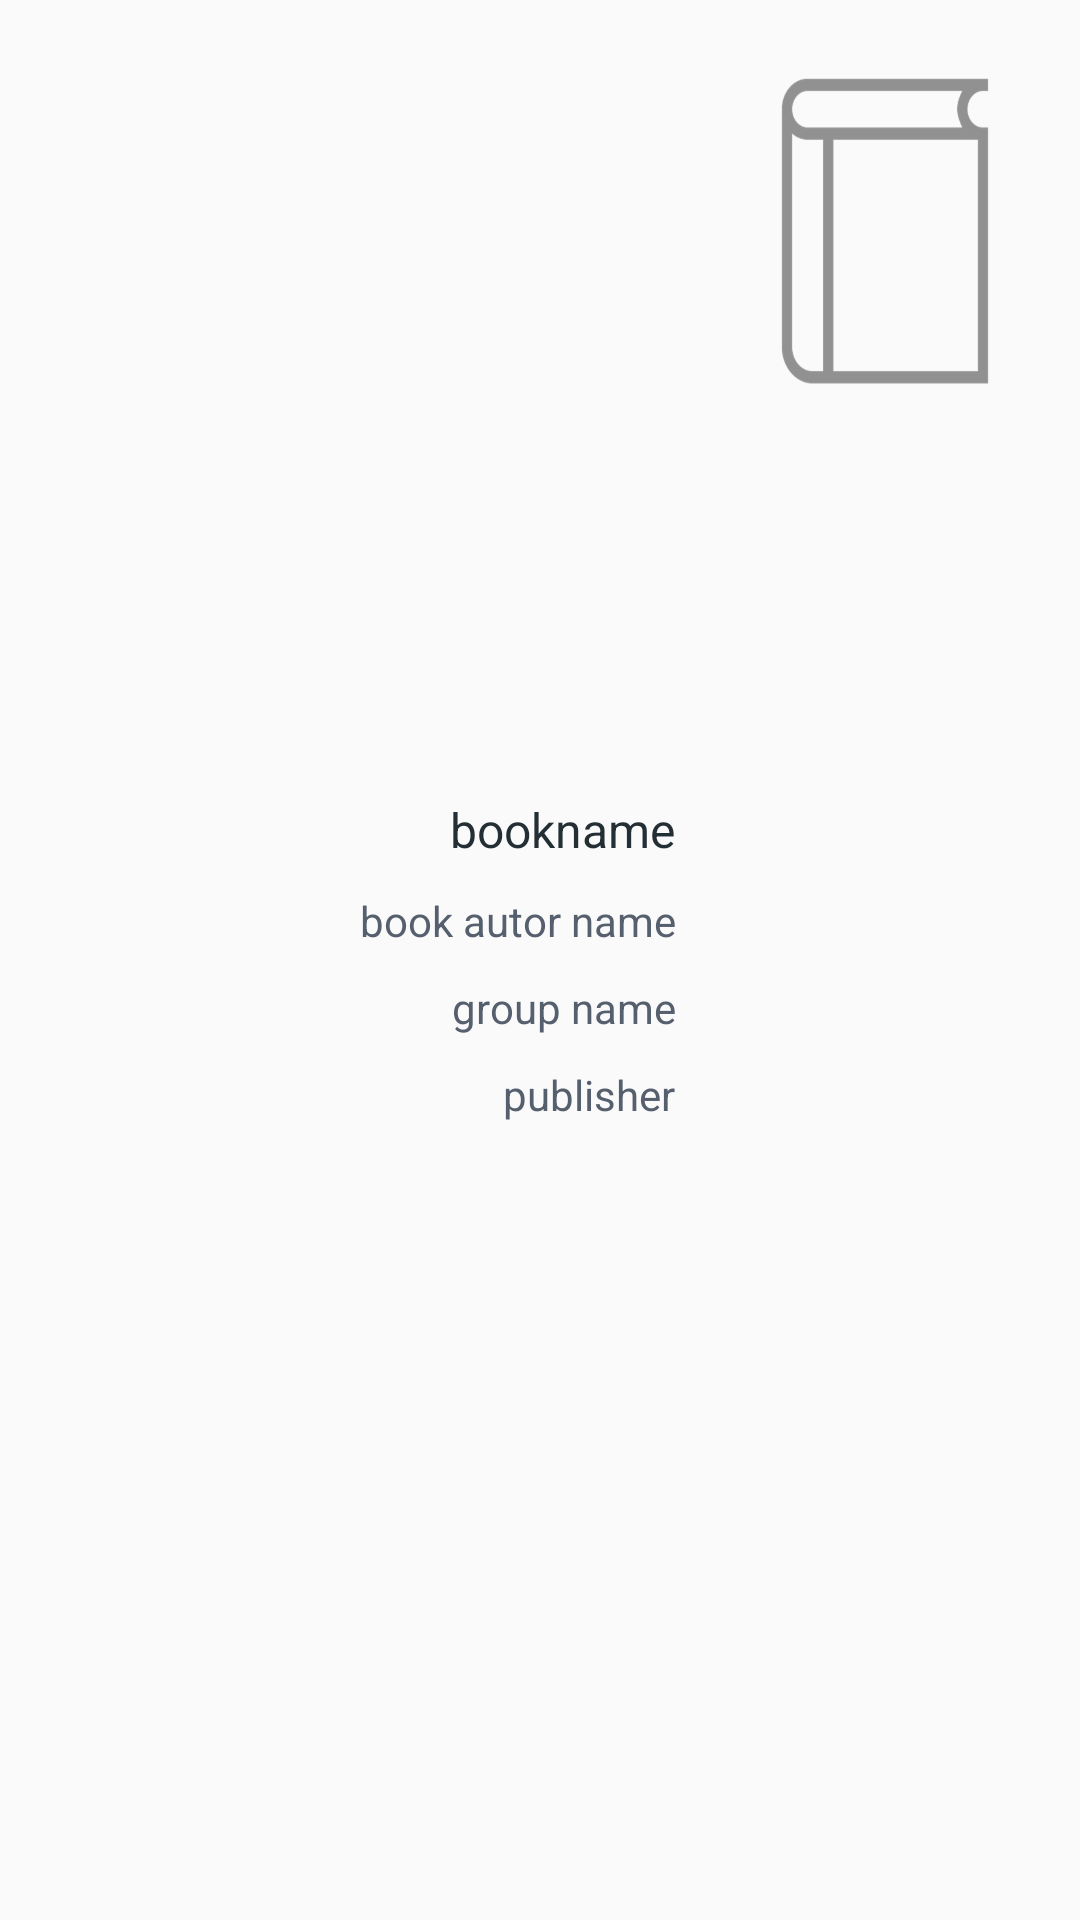

Icons on this 1080 × 1920 Android screen, each with its box as (x1, y1, x2, y2):
book: (782, 79, 988, 384)
